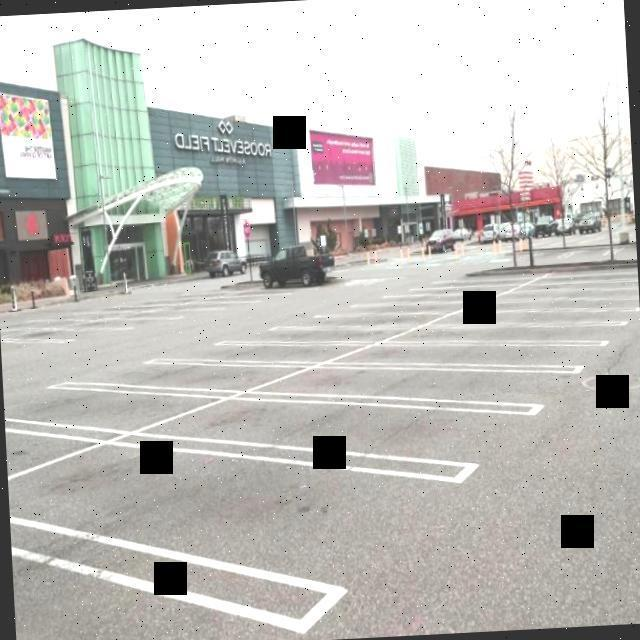free: (8, 433, 475, 634), (112, 386, 548, 487), (225, 357, 580, 422), (5, 381, 242, 446), (51, 358, 317, 401), (311, 340, 609, 377), (144, 339, 374, 369)
